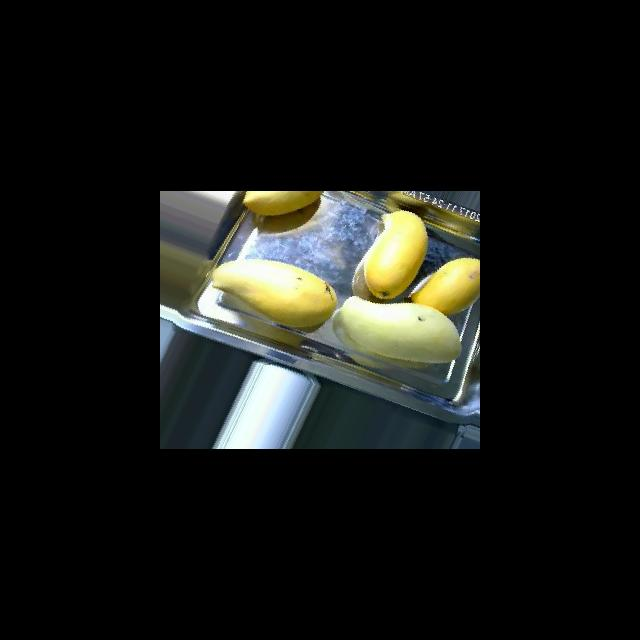Mango: (211, 258, 337, 331), (339, 295, 461, 364), (363, 209, 427, 299), (409, 256, 479, 315), (241, 191, 324, 216)
